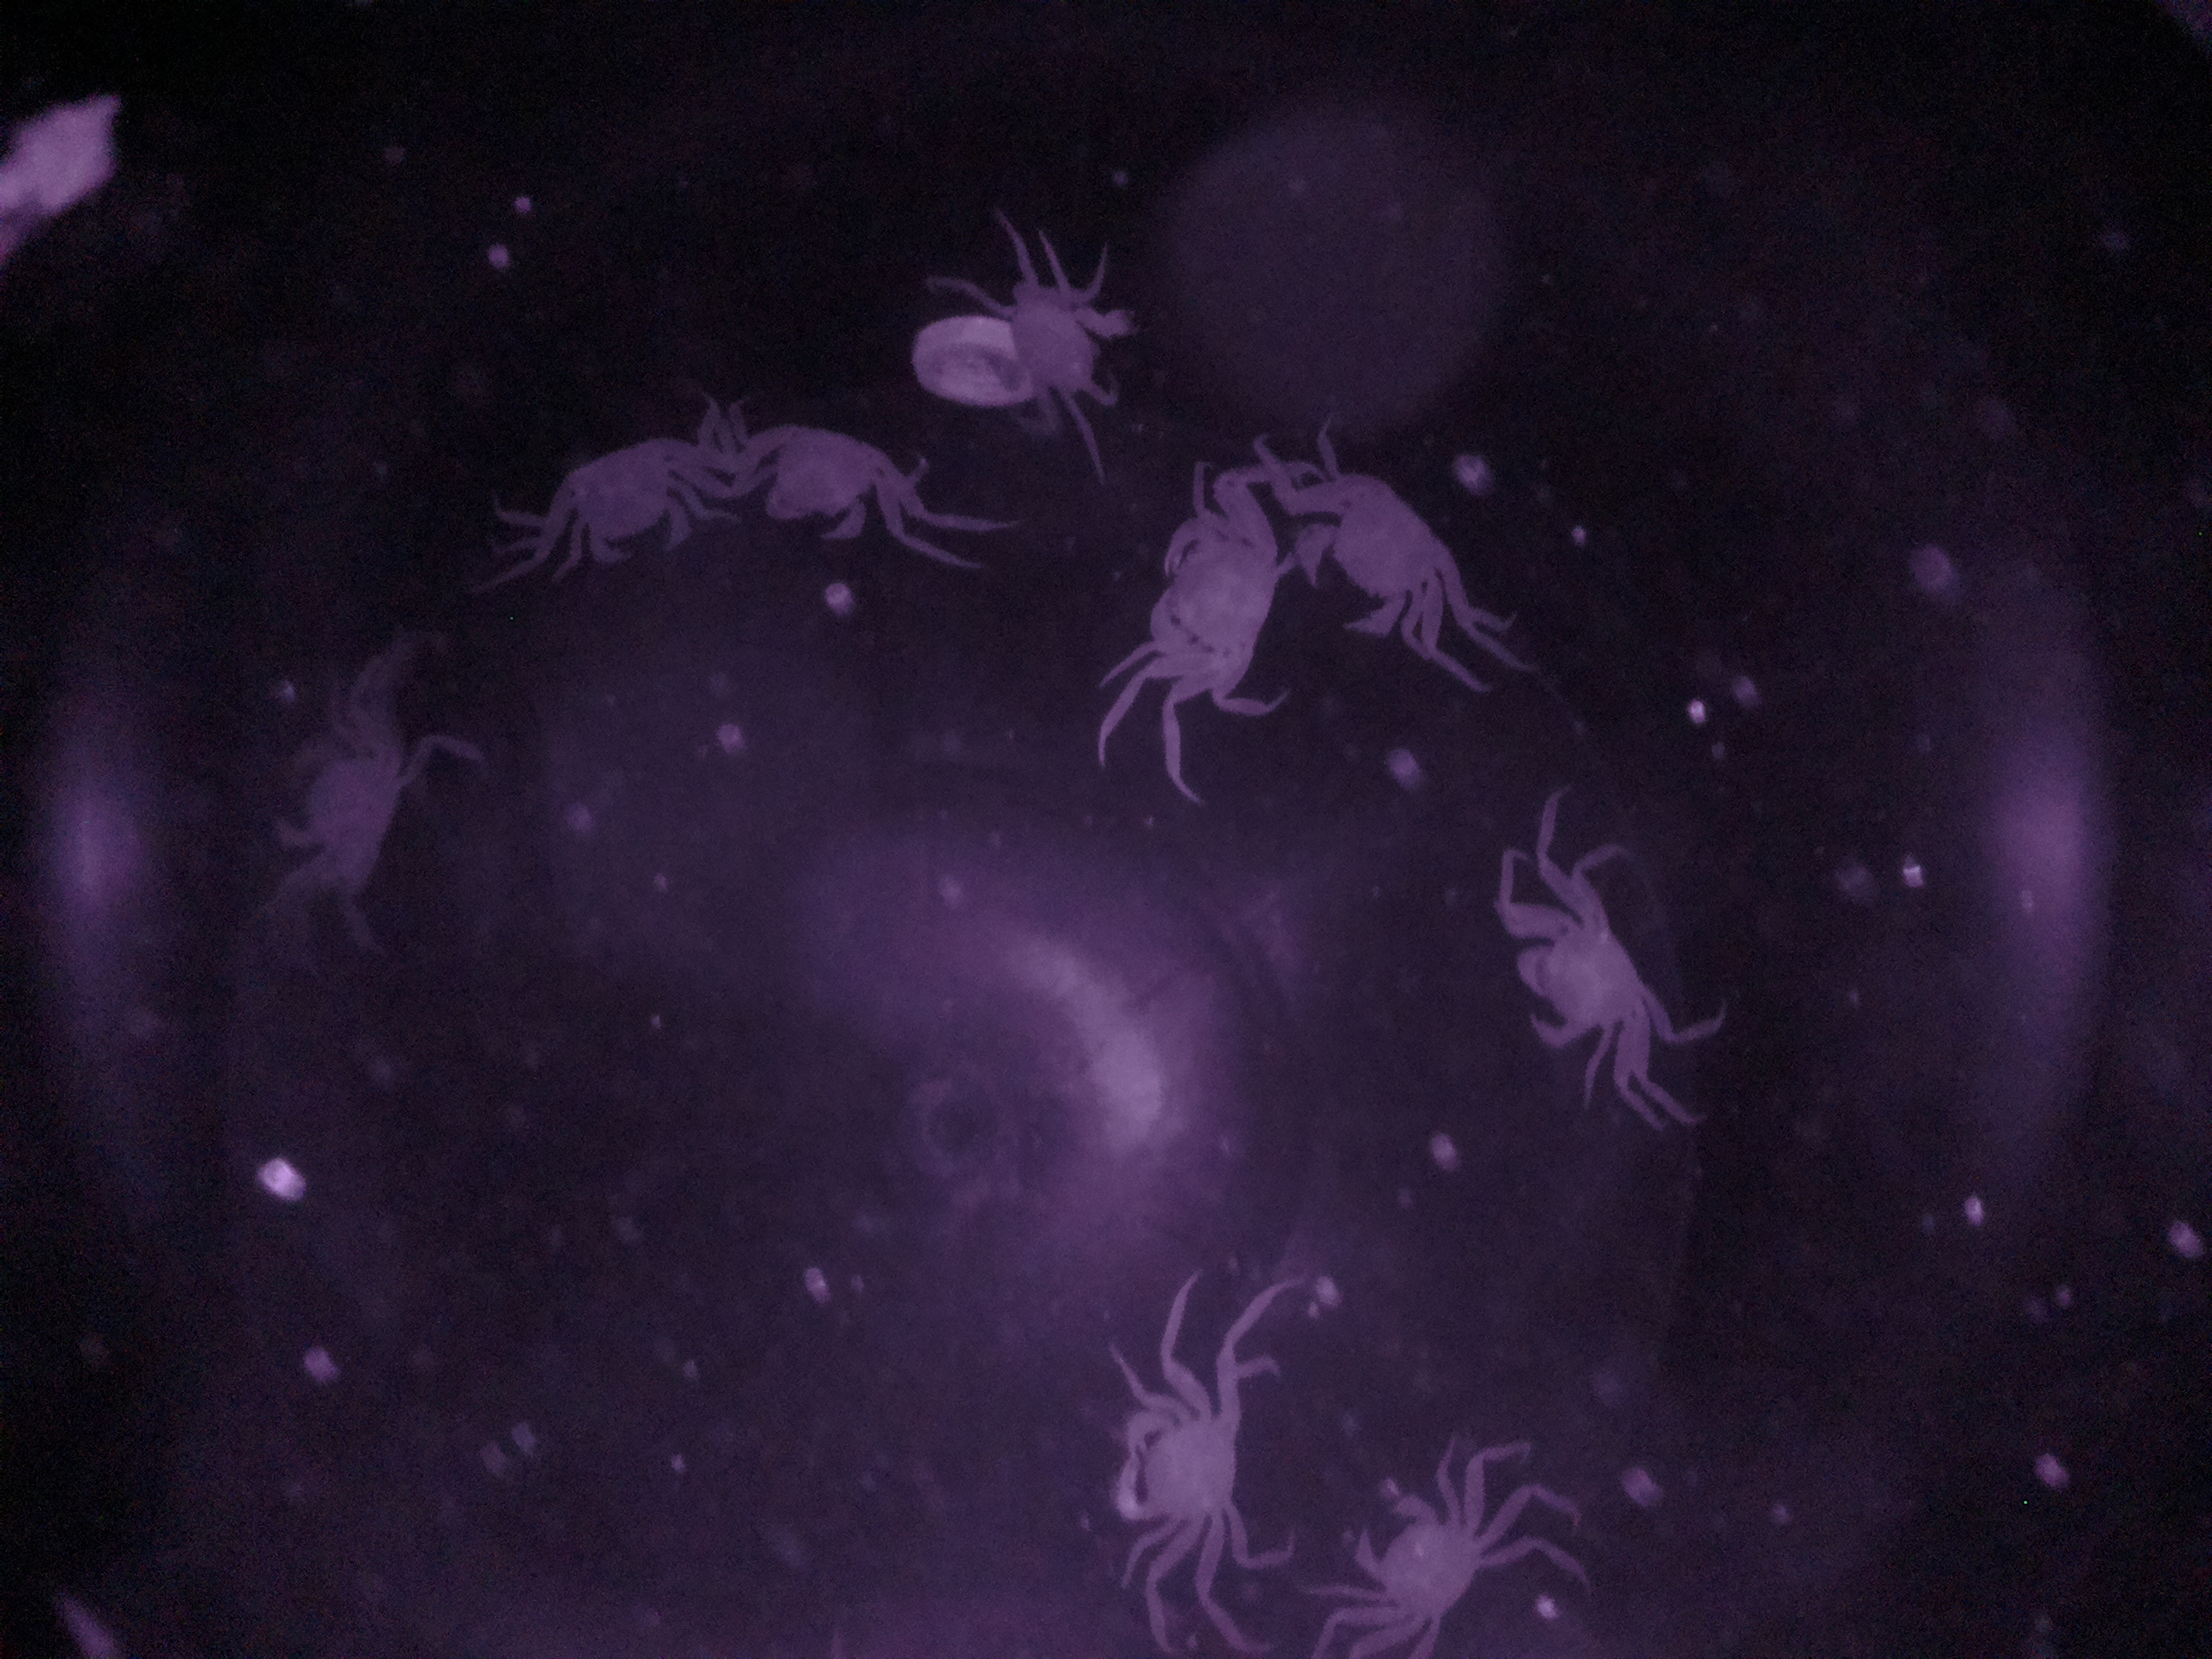Crab: (1505, 875, 1674, 1101), (526, 415, 733, 584), (1101, 1342, 1251, 1574), (1282, 457, 1461, 650), (1338, 1464, 1498, 1645)
